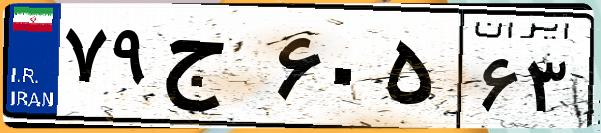0: (330, 28, 385, 110)
3: (525, 38, 570, 115)
5: (385, 28, 445, 110)
6: (270, 28, 330, 110), (475, 38, 525, 113)
7: (57, 26, 110, 100)
9: (110, 28, 158, 98)
ج: (158, 20, 270, 120)
